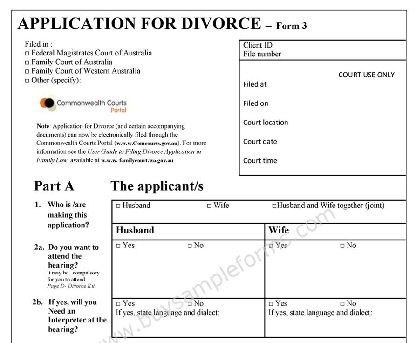checkbox: (115, 300, 121, 308), (186, 300, 192, 308), (267, 300, 273, 308), (339, 300, 345, 308), (24, 50, 29, 56), (24, 68, 29, 74), (115, 243, 120, 249), (268, 243, 273, 249), (24, 60, 29, 65), (24, 78, 29, 83), (206, 204, 211, 209), (187, 243, 191, 249), (340, 243, 344, 249), (116, 204, 120, 209), (272, 204, 276, 209)
